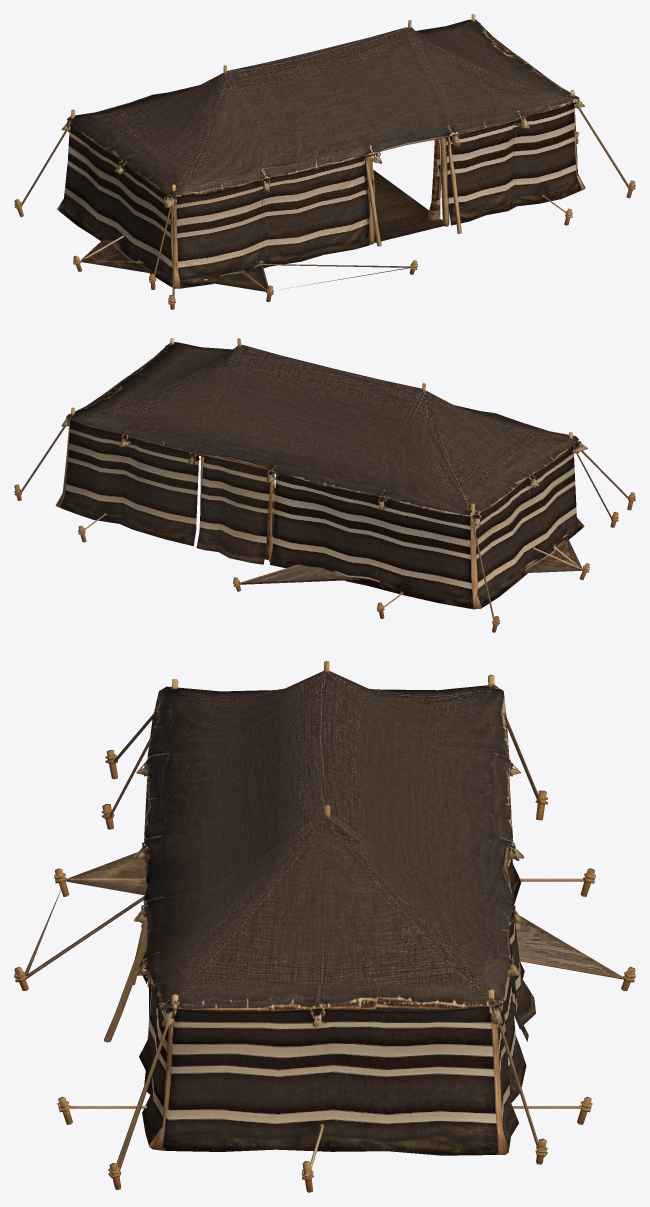
File: generated-1948-06-bedouin-b-enclosed-striped-tent.glb
3 views of the same model, one above another, from view 1: azimuth 30°, elevation 25°; view 2: azimuth 150°, elevation 25°; view 3: azimuth 270°, elevation 25° (orthographic). The views are drawn at different scales.
Parts seen in each view (by area): view 1: tripo_node_721eaae7-4ab1-4878-b616-62205ef5fa7a; view 2: tripo_node_721eaae7-4ab1-4878-b616-62205ef5fa7a; view 3: tripo_node_721eaae7-4ab1-4878-b616-62205ef5fa7a.
Part boxes in pixels (left/top/right/bottom): tripo_node_721eaae7-4ab1-4878-b616-62205ef5fa7a: left=14, top=14, right=635, bottom=309; tripo_node_721eaae7-4ab1-4878-b616-62205ef5fa7a: left=14, top=338, right=635, bottom=632; tripo_node_721eaae7-4ab1-4878-b616-62205ef5fa7a: left=14, top=661, right=635, bottom=1192.
Size of the model in its own units: 0.9995 by 0.314 by 0.6685.
Materials: 1 (1 with a texture image).
